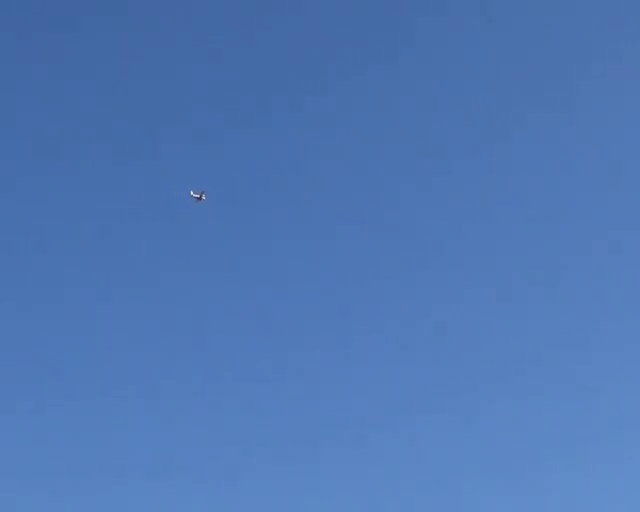AIRPLANE: (189, 189, 206, 202)
